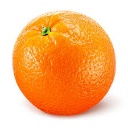orange: (10, 8, 118, 118)
